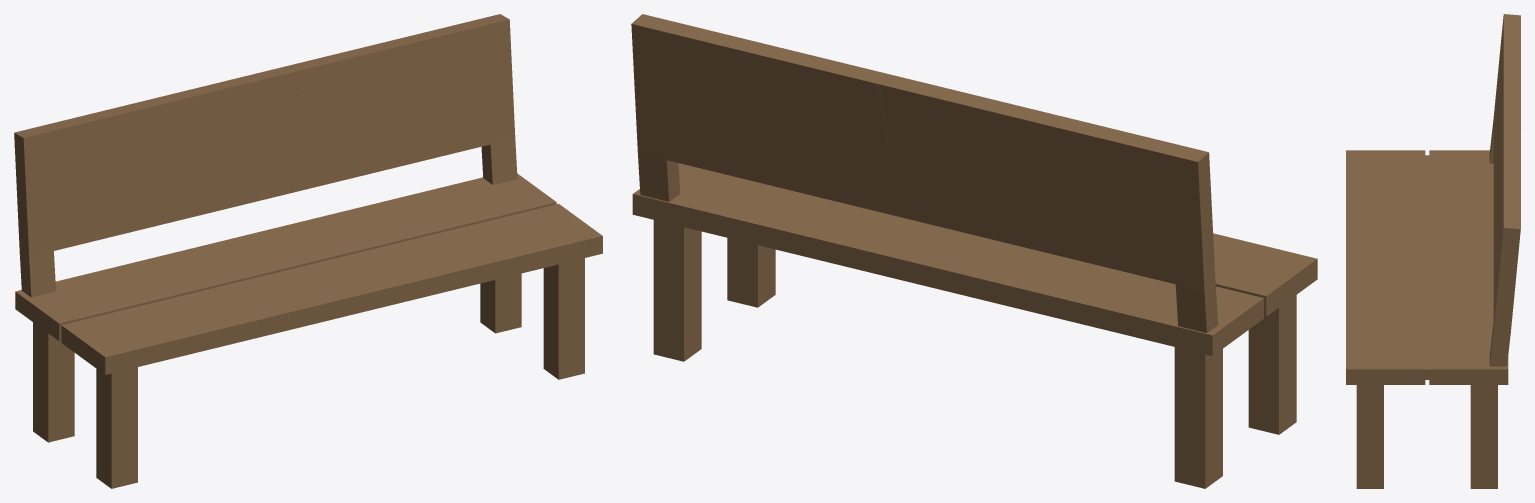
The model's file is Bench_04 Fracture.fbx.
The picture shows the model from 3 angles, left to right: view 1: azimuth 30°, elevation 25°; view 2: azimuth 150°, elevation 25°; view 3: azimuth 270°, elevation 25°; orthographic projection. The views are drawn at different scales.
Visible parts, largest first — view 1: Bench_01_cell, Bench_01_cell.002, Bench_01_cell.003, Bench_01_cell.001; view 2: Bench_01_cell, Bench_01_cell.002, Bench_01_cell.003, Bench_01_cell.001; view 3: Bench_01_cell.002, Bench_01_cell.001, Bench_01_cell, Bench_01_cell.003.
Part boxes in pixels (x1=…): Bench_01_cell: x1=14, y1=66, x2=336, y2=342; Bench_01_cell.002: x1=279, y1=14, x2=559, y2=333; Bench_01_cell.003: x1=29, y1=277, x2=353, y2=488; Bench_01_cell.001: x1=328, y1=204, x2=602, y2=379; Bench_01_cell: x1=879, y1=74, x2=1234, y2=396; Bench_01_cell.002: x1=631, y1=14, x2=945, y2=361; Bench_01_cell.003: x1=1142, y1=233, x2=1317, y2=488; Bench_01_cell.001: x1=727, y1=238, x2=775, y2=307; Bench_01_cell.002: x1=1423, y1=134, x2=1520, y2=488; Bench_01_cell.001: x1=1346, y1=259, x2=1424, y2=488; Bench_01_cell: x1=1389, y1=14, x2=1520, y2=269; Bench_01_cell.003: x1=1346, y1=150, x2=1473, y2=262.
Bounding box in the file's own units: 185 × 104 × 62.35.
